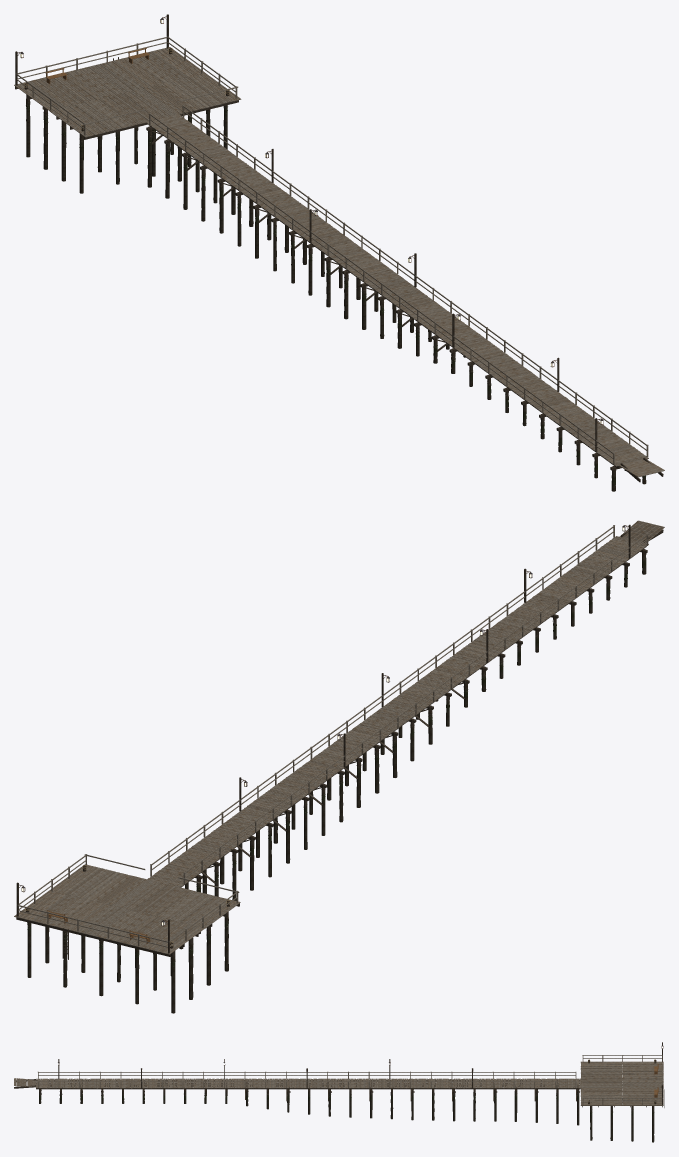
File: fishing_pier.glb
3 views of the same model, one above another, from view 1: azimuth 30°, elevation 25°; view 2: azimuth 150°, elevation 25°; view 3: azimuth 270°, elevation 25° (orthographic). The views are drawn at different scales.
Visible parts, largest first — view 1: tw_pier; view 2: tw_pier; view 3: tw_pier.
Boxes of the visible parts, box(x1,y1,x2,y2) form: tw_pier: box(14, 14, 664, 491); tw_pier: box(14, 520, 664, 1013); tw_pier: box(14, 1042, 664, 1142).
Size of the model in its own units: 15.14 by 9.29 by 94.41.
Materials: 7 (6 with a texture image).
